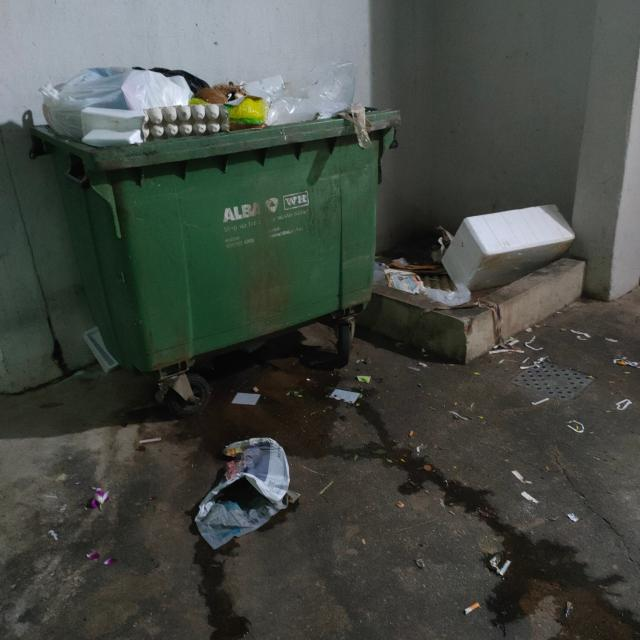bin_full: (30, 65, 399, 414)
bulk_waste: (456, 203, 578, 280)
normal_waste: (181, 61, 352, 136), (39, 66, 198, 142), (194, 435, 294, 548), (390, 263, 469, 306)
